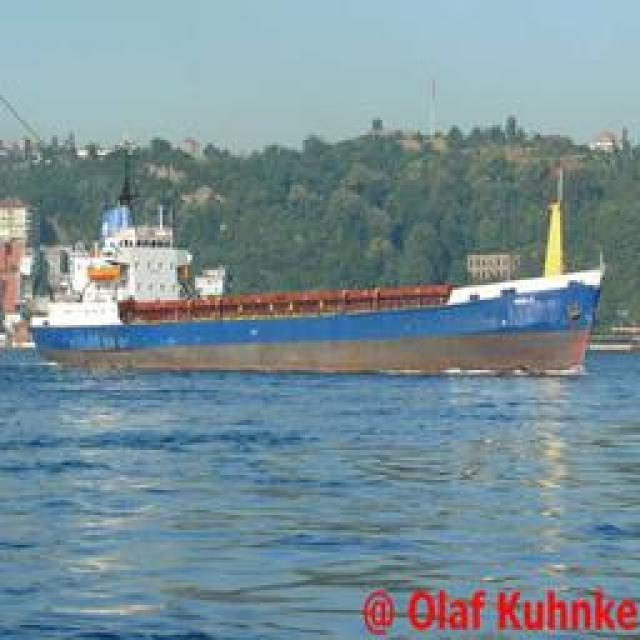CIV_Ship: (21, 242, 614, 372)
